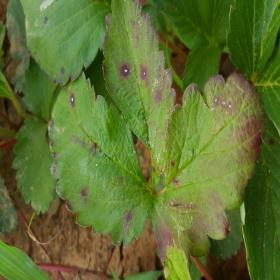Leaf Spot: (148, 72, 266, 270), (48, 70, 155, 249), (101, 0, 176, 190), (20, 0, 112, 88), (240, 111, 279, 279)
